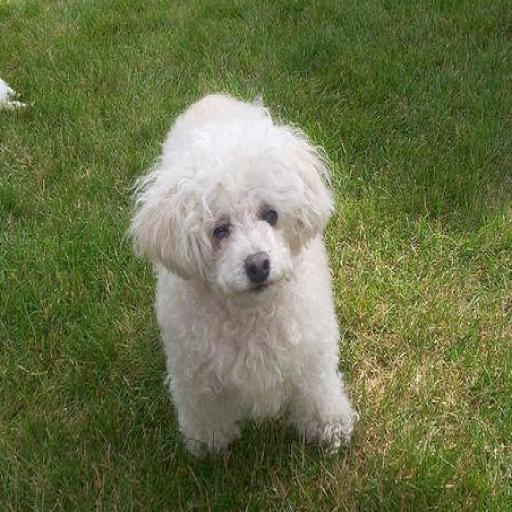dog_face: (129, 106, 329, 299)
